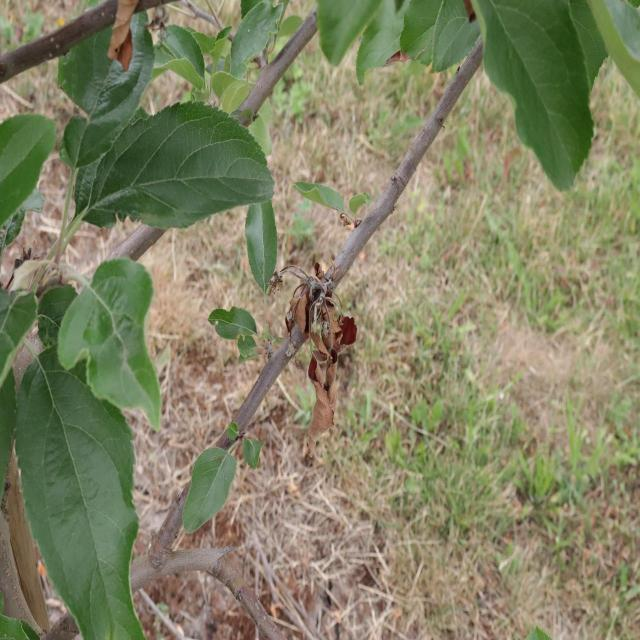-FireBlight-: (286, 272, 352, 440)
